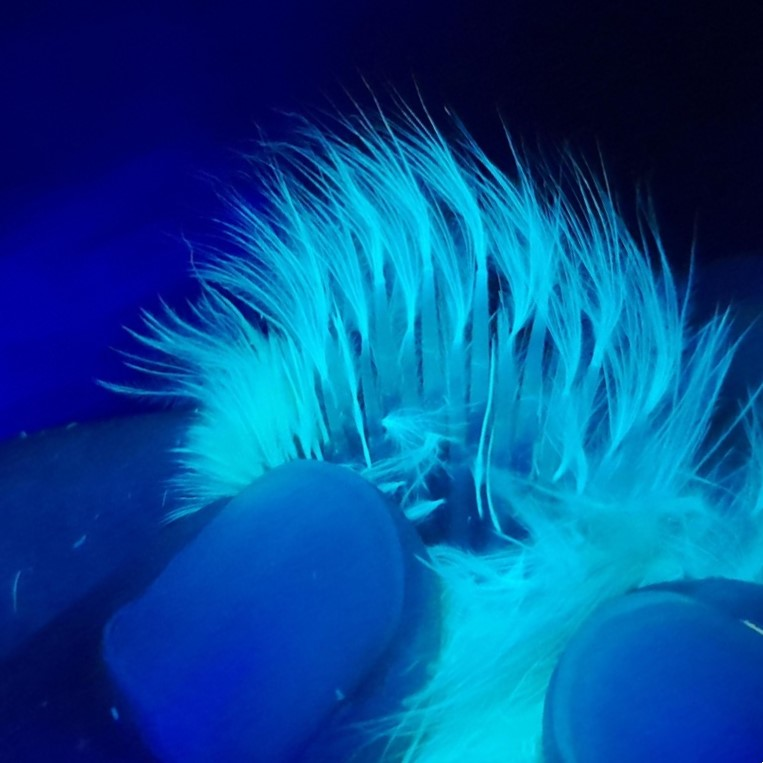female: (263, 228, 655, 577)
